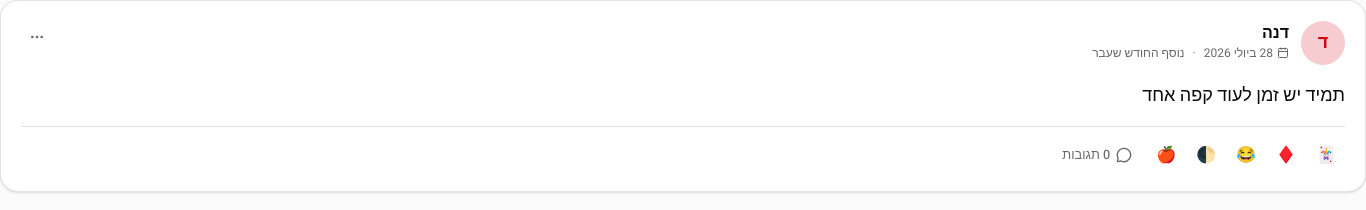
QuoteCard › opens the actions menu for signed-out visitors too
The image size is (1366, 210).
What coordinates should you click on to do the following:
click the button named "אפשרויות נוספות"
I would click on:
 (37, 37)
Its box is [21, 21, 53, 53].
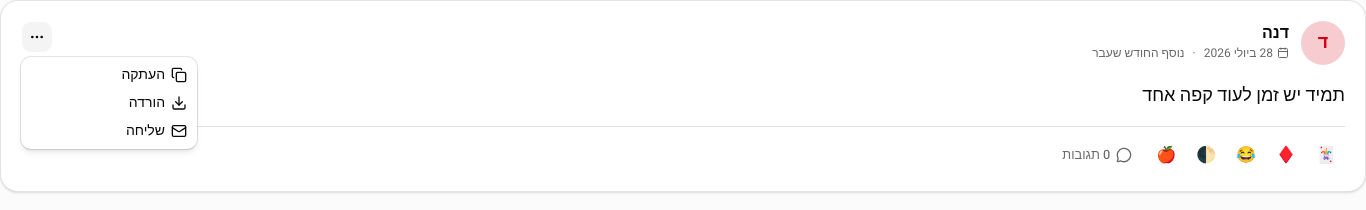
Expected: the menu item "הורדה" is shown, [129, 92, 187, 113]
Expected: the menu item "העתקה" is shown, [122, 64, 187, 85]
